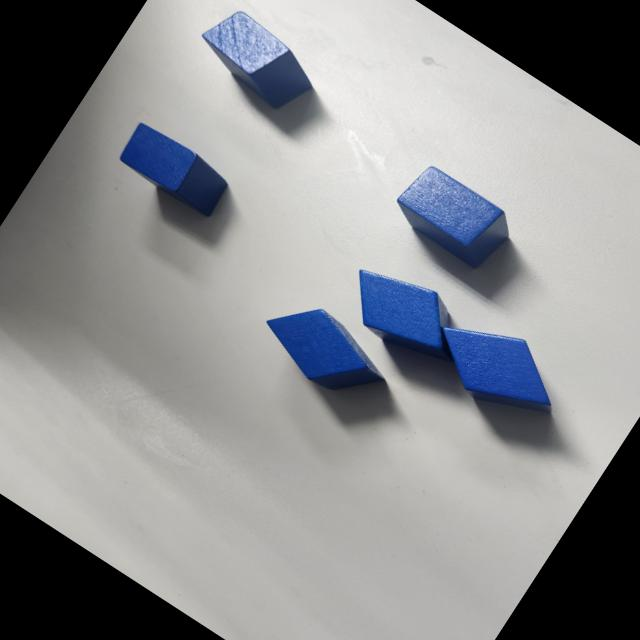blue: (416, 296, 578, 439), (250, 286, 398, 414), (333, 251, 474, 376), (187, 0, 327, 120), (387, 158, 518, 275), (114, 118, 233, 220)
